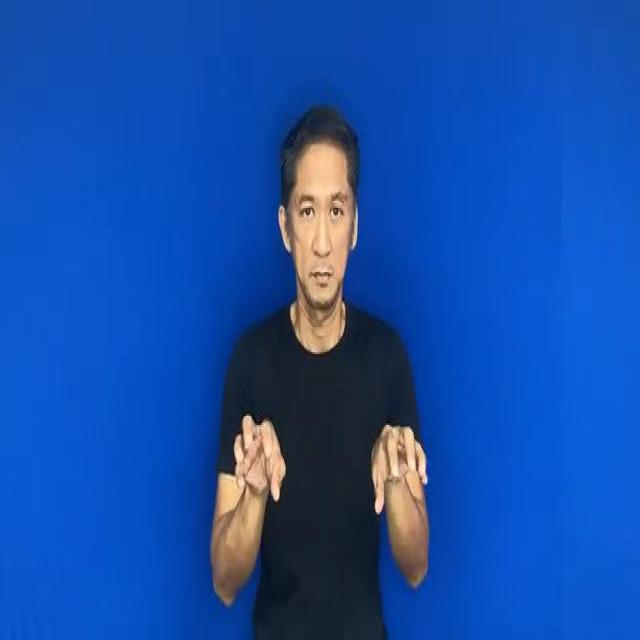egg: (221, 392, 440, 521)
